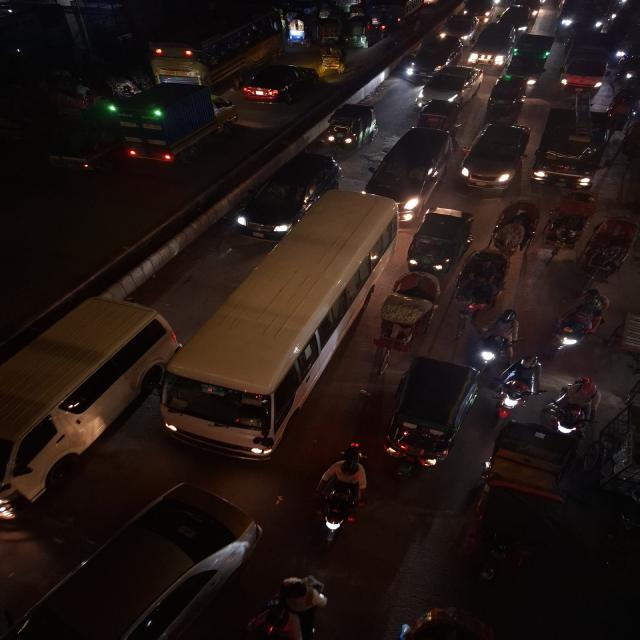bus: (160, 197, 398, 463), (145, 3, 285, 87)
car: (0, 483, 266, 640), (0, 298, 169, 532), (232, 149, 341, 240), (367, 126, 452, 220), (459, 120, 530, 192), (239, 62, 318, 106), (414, 64, 482, 108), (400, 36, 464, 82), (468, 21, 516, 70), (557, 0, 620, 34), (438, 13, 478, 42), (500, 4, 534, 36), (463, 1, 494, 20)
cng: (384, 354, 482, 480), (407, 206, 473, 274), (321, 100, 379, 152), (342, 15, 379, 50)
motorcycle: (310, 438, 370, 548), (244, 571, 334, 640), (545, 374, 601, 442), (475, 306, 523, 374), (497, 354, 542, 420)
pickup_van: (529, 106, 606, 193), (557, 38, 616, 96)
rickshaw: (370, 270, 436, 366), (452, 247, 512, 325), (548, 288, 613, 358), (581, 214, 640, 290), (540, 188, 597, 260), (488, 198, 536, 252), (483, 75, 527, 124), (319, 39, 348, 75), (285, 12, 312, 48)
truck: (118, 82, 237, 164), (364, 0, 426, 28)
